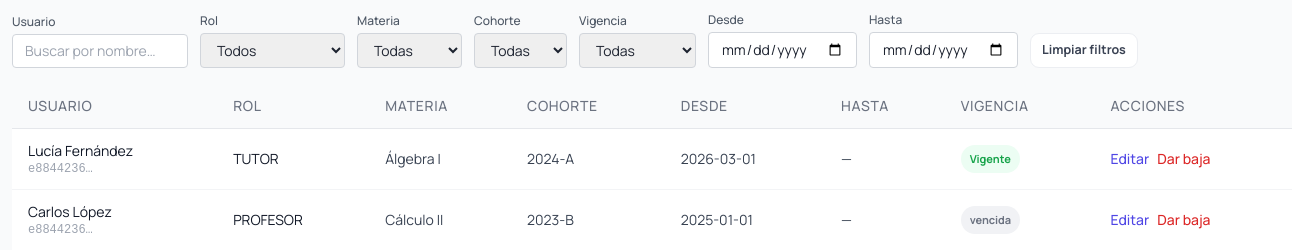
Test: AsignacionesTable — client-side filtering › 8. Usuario filter — substring match (case-insensitive) keeps matching row
In the field with test id "filtro-usuario": (100, 51) 12,34 -> 188,68, type "lucía"
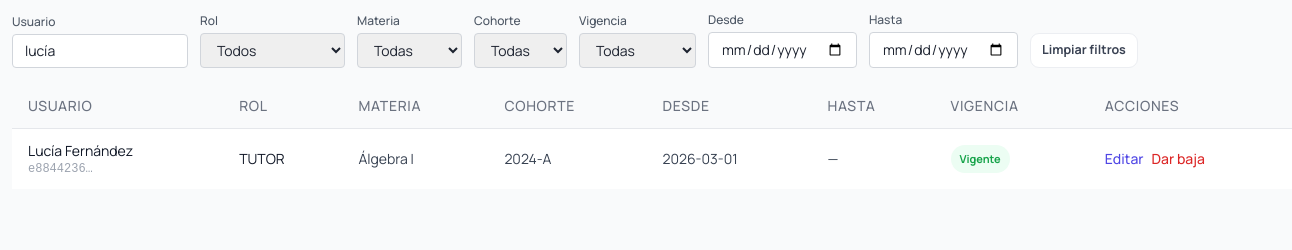
Expected: the text "Lucía Fernández" is shown, 28,141 -> 133,160
Result: the text "Carlos López" is gone
